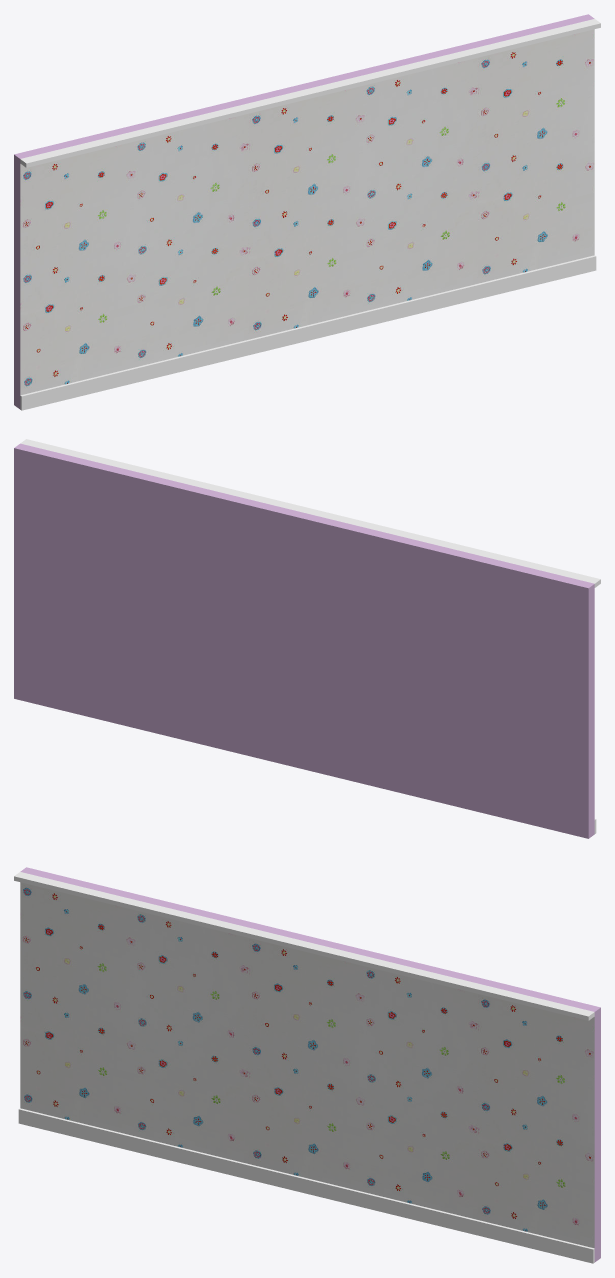
Rendered from Wall 2.FBX.
3 views of the same model, one above another, from view 1: azimuth 30°, elevation 25°; view 2: azimuth 150°, elevation 25°; view 3: azimuth 330°, elevation 25° (orthographic).
Parts seen in each view (by area): view 1: wall 2; view 2: wall 2; view 3: wall 2.
Part boxes in pixels (x1,y1,x2,y2): wall 2: (14, 14, 600, 410); wall 2: (14, 439, 600, 838); wall 2: (14, 867, 600, 1263).
Size of the model in its own units: 7500 by 280 by 3126.
3 materials, 1 textured.
